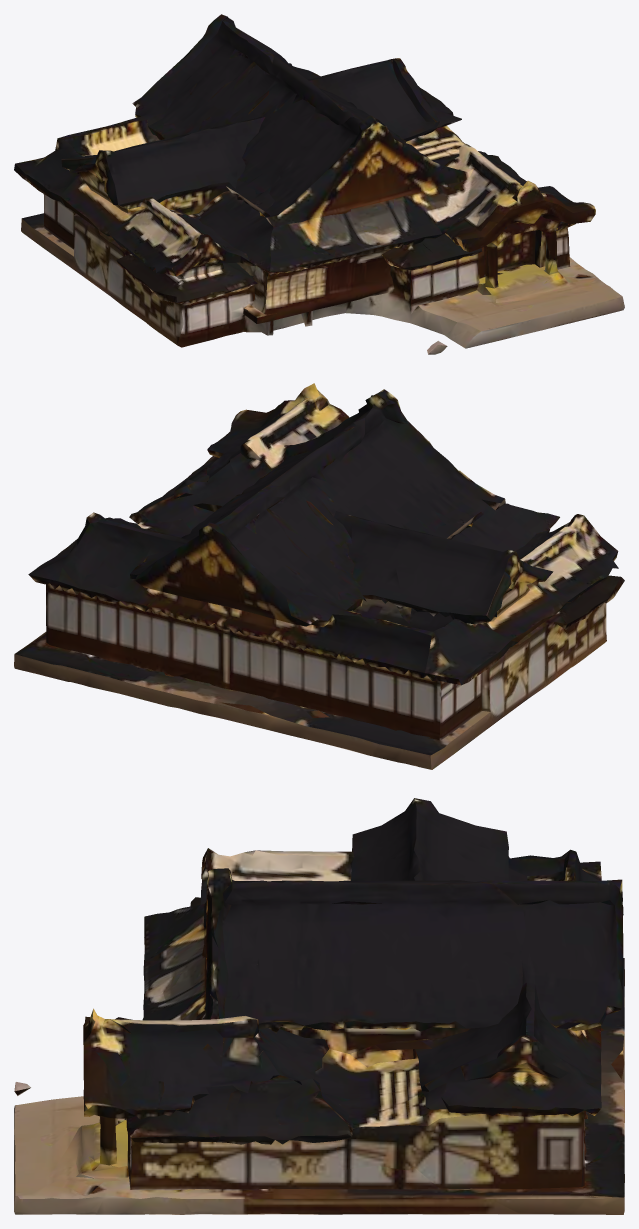
Rendered from nijo-castle.glb.
The picture shows the model from 3 angles, top to bottom: view 1: azimuth 30°, elevation 25°; view 2: azimuth 150°, elevation 25°; view 3: azimuth 270°, elevation 25°; orthographic projection. The views are drawn at different scales.
Parts seen in each view (by area): view 1: logan-textured.obj; view 2: logan-textured.obj; view 3: logan-textured.obj.
Boxes of the visible parts, x1,y1,x2,y2 form: logan-textured.obj: [14, 14, 624, 354]; logan-textured.obj: [14, 383, 624, 769]; logan-textured.obj: [14, 798, 624, 1214].
Size of the model in its own units: 0.9736 by 0.4247 by 1.
1 material, 1 textured.
